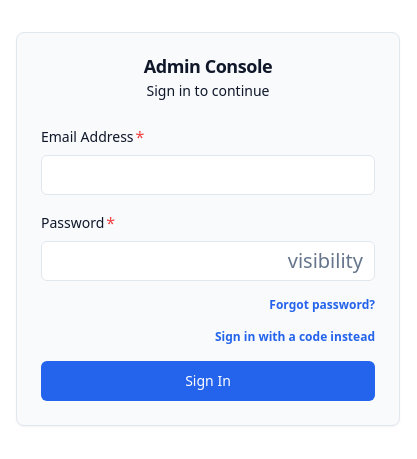
Test: LoginForm › renders the translated message for invalidCredentials
This screenshot has width=417, height=459.
Type "a@b.io" into the field labelled "Email Address" at [208, 175], box [41,155,375,195]
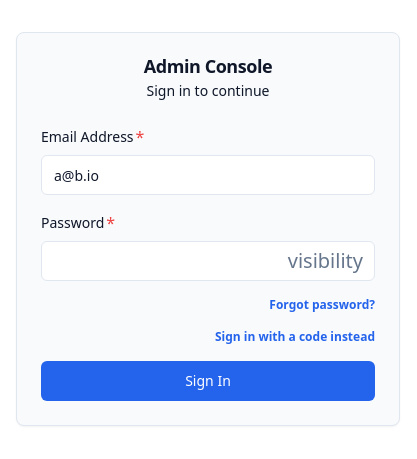
Type "pw" into the password field labelled "Password" at [208, 261], box [41,241,375,281]
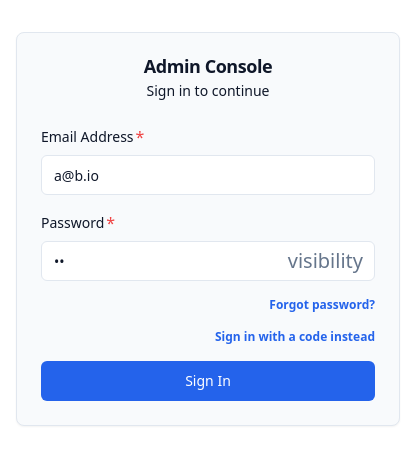
Submit the form, box [41,125,375,401]
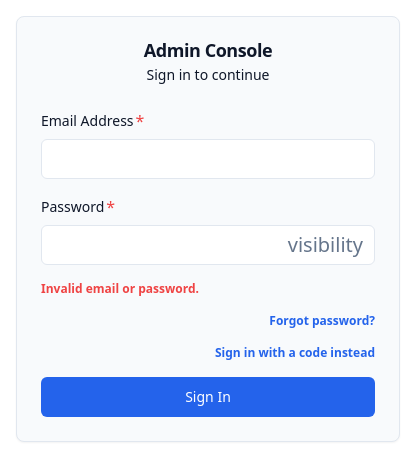
Check: the text with test id "login-error" reads "Invalid email or password.", box [41,280,199,297]
